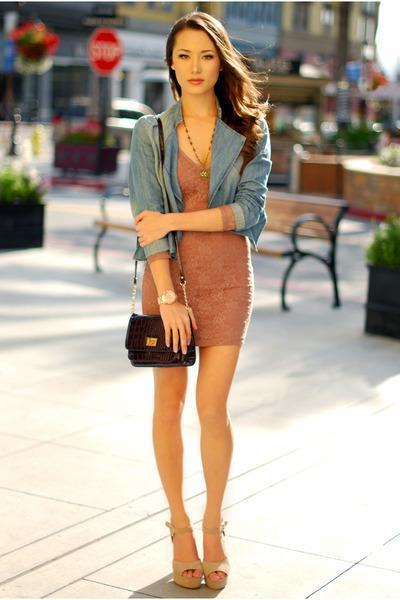bag: (125, 312, 197, 367)
dress: (142, 147, 251, 361)
jacket: (125, 84, 271, 275)
shoe: (173, 554, 226, 597)
